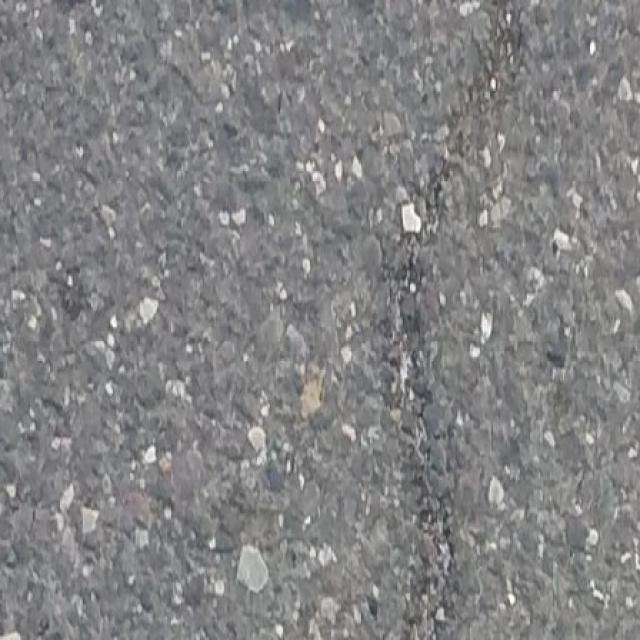Vertical Crack: (374, 3, 530, 639)
